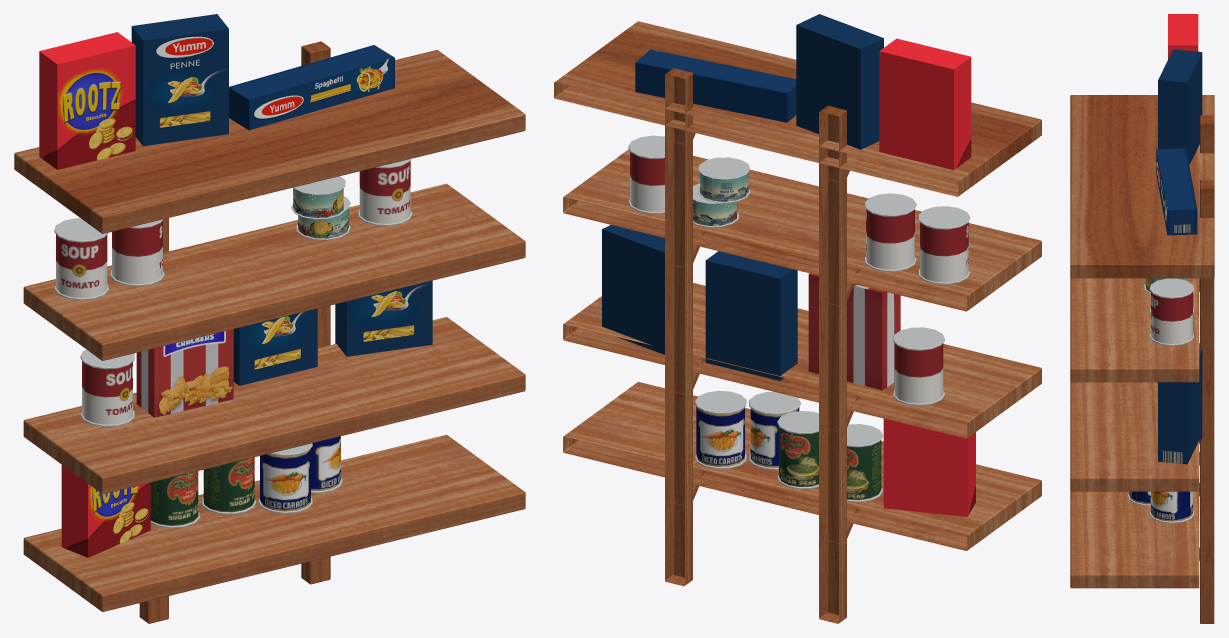
The model's file is Mesh_Kitchen_Shelf.fbx.
3 views of the same model, side by side, from view 1: azimuth 30°, elevation 25°; view 2: azimuth 150°, elevation 25°; view 3: azimuth 270°, elevation 25° (orthographic). The views are drawn at different scales.
Visible parts, largest first — view 1: Mesh_Shelf, Mesh_Shelf_Foodstuff; view 2: Mesh_Shelf, Mesh_Shelf_Foodstuff; view 3: Mesh_Shelf, Mesh_Shelf_Foodstuff.
Part boxes in pixels (box(x1,y1,x2,y2)): Mesh_Shelf: box(14, 41, 525, 623); Mesh_Shelf_Foodstuff: box(39, 14, 432, 557); Mesh_Shelf: box(554, 21, 1041, 623); Mesh_Shelf_Foodstuff: box(602, 14, 975, 516); Mesh_Shelf: box(1070, 95, 1214, 623); Mesh_Shelf_Foodstuff: box(1127, 14, 1202, 523).
Bounding box in the file's own units: 296 × 401 × 106.
